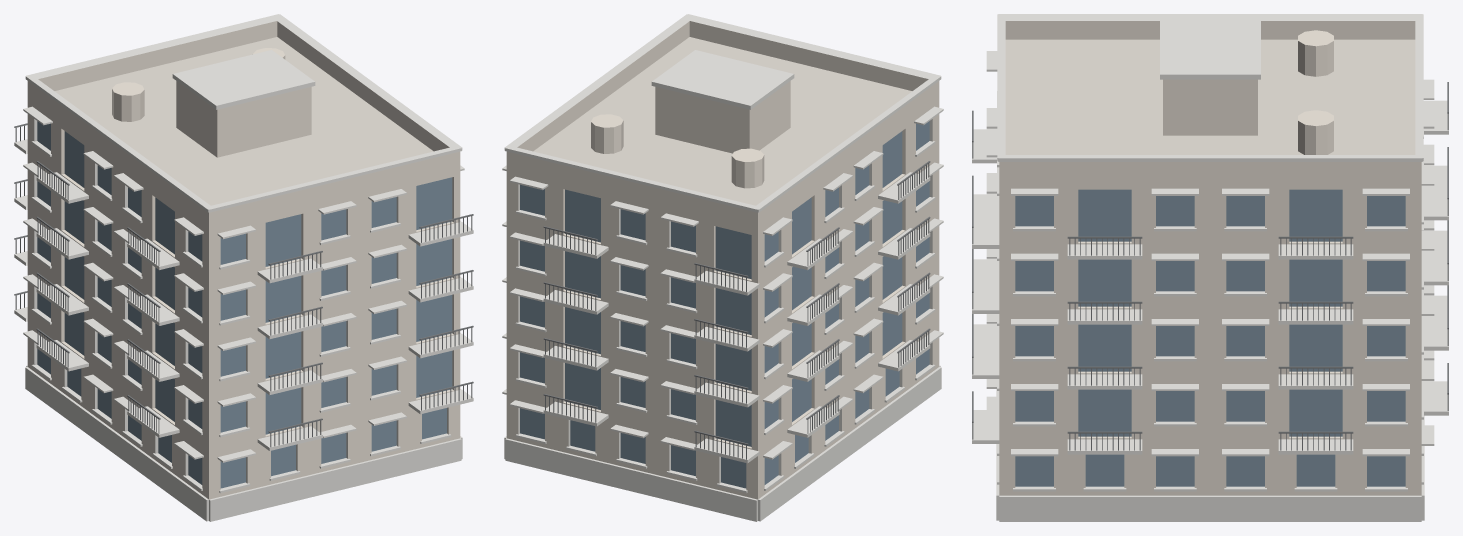
The model's file is Staff_Quarters_5.fbx.
The picture shows the model from 3 angles, left to right: view 1: azimuth 30°, elevation 25°; view 2: azimuth 150°, elevation 25°; view 3: azimuth 270°, elevation 25°; orthographic projection. The views are drawn at different scales.
Parts seen in each view (by area): view 1: Staff_Quarters_5; view 2: Staff_Quarters_5; view 3: Staff_Quarters_5.
Boxes of the visible parts, bbox=[...] form: Staff_Quarters_5: bbox=[14, 14, 473, 521]; Staff_Quarters_5: bbox=[502, 14, 943, 521]; Staff_Quarters_5: bbox=[972, 14, 1448, 521].
Size of the model in its own units: 18.6 by 21.05 by 22.6.
